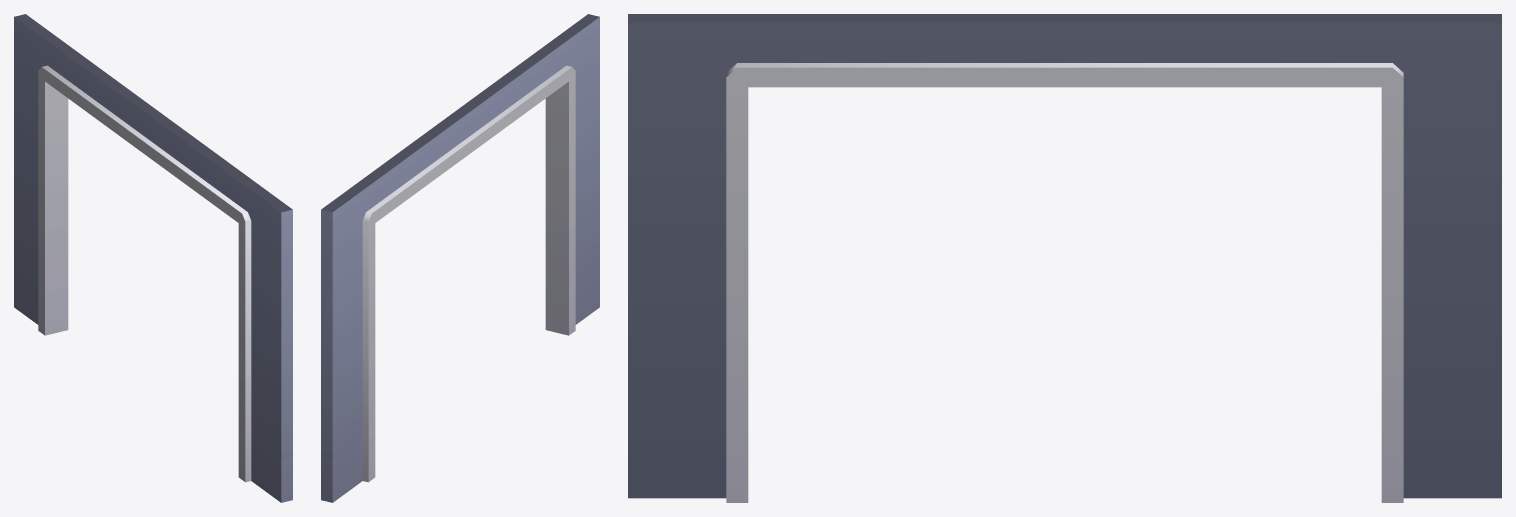
The model's file is wall-doorway-wide-square.optimized.glb.
3 renders of one model, left to right at view 1: azimuth 30°, elevation 25°; view 2: azimuth 150°, elevation 25°; view 3: azimuth 270°, elevation 25°, orthographic. The views are drawn at different scales.
Parts seen in each view (by area): view 1: wall-doorway-wide-square; view 2: wall-doorway-wide-square; view 3: wall-doorway-wide-square.
Boxes of the visible parts, box(x1,y1,x2,y2) form: wall-doorway-wide-square: box(14, 14, 292, 502); wall-doorway-wide-square: box(321, 14, 599, 502); wall-doorway-wide-square: box(628, 14, 1501, 502).
Size of the model in its own units: 0.2002 by 2.4 by 4.
1 material, 1 textured.
